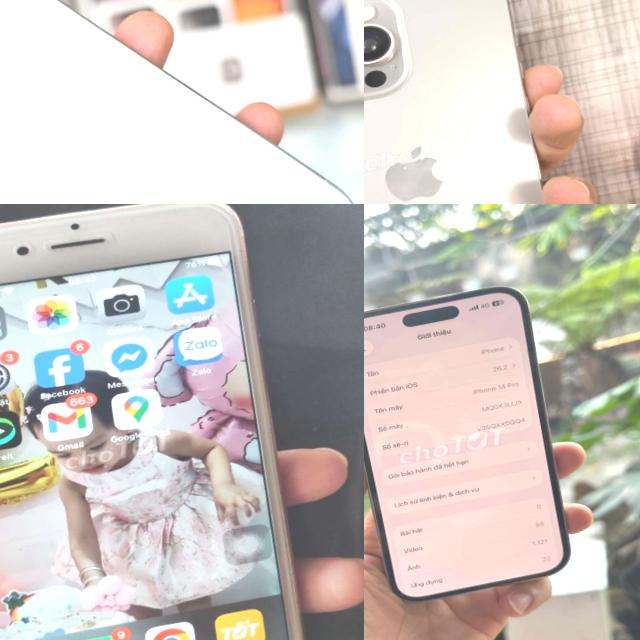gen_14: (364, 269, 594, 622)
gen_15: (0, 0, 364, 204), (364, 0, 614, 204)
gen_6: (0, 204, 304, 640)
